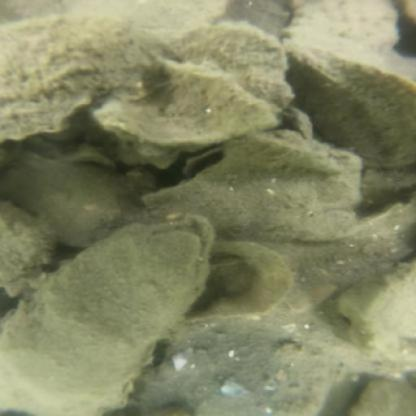3: (13, 216, 211, 394)
Oyster-Closed: (92, 61, 307, 167), (0, 14, 159, 149), (287, 41, 416, 173), (149, 21, 300, 122), (228, 136, 340, 173), (341, 379, 415, 416)
Oyster-Open: (143, 133, 359, 242), (138, 316, 333, 416), (3, 153, 131, 242), (296, 0, 404, 66), (69, 0, 232, 37), (3, 201, 53, 287)
